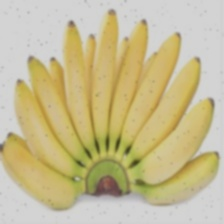banana: (30, 42, 218, 188)
